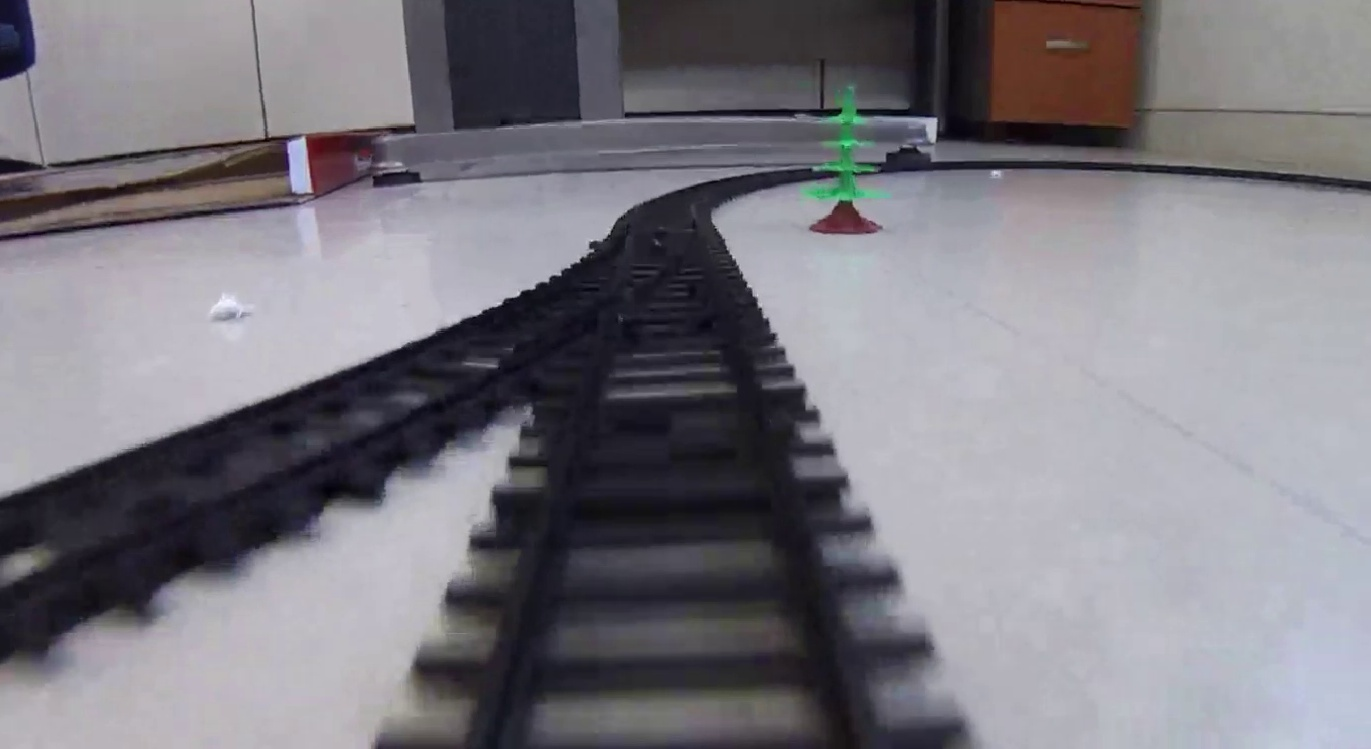tree: (798, 85, 890, 234)
